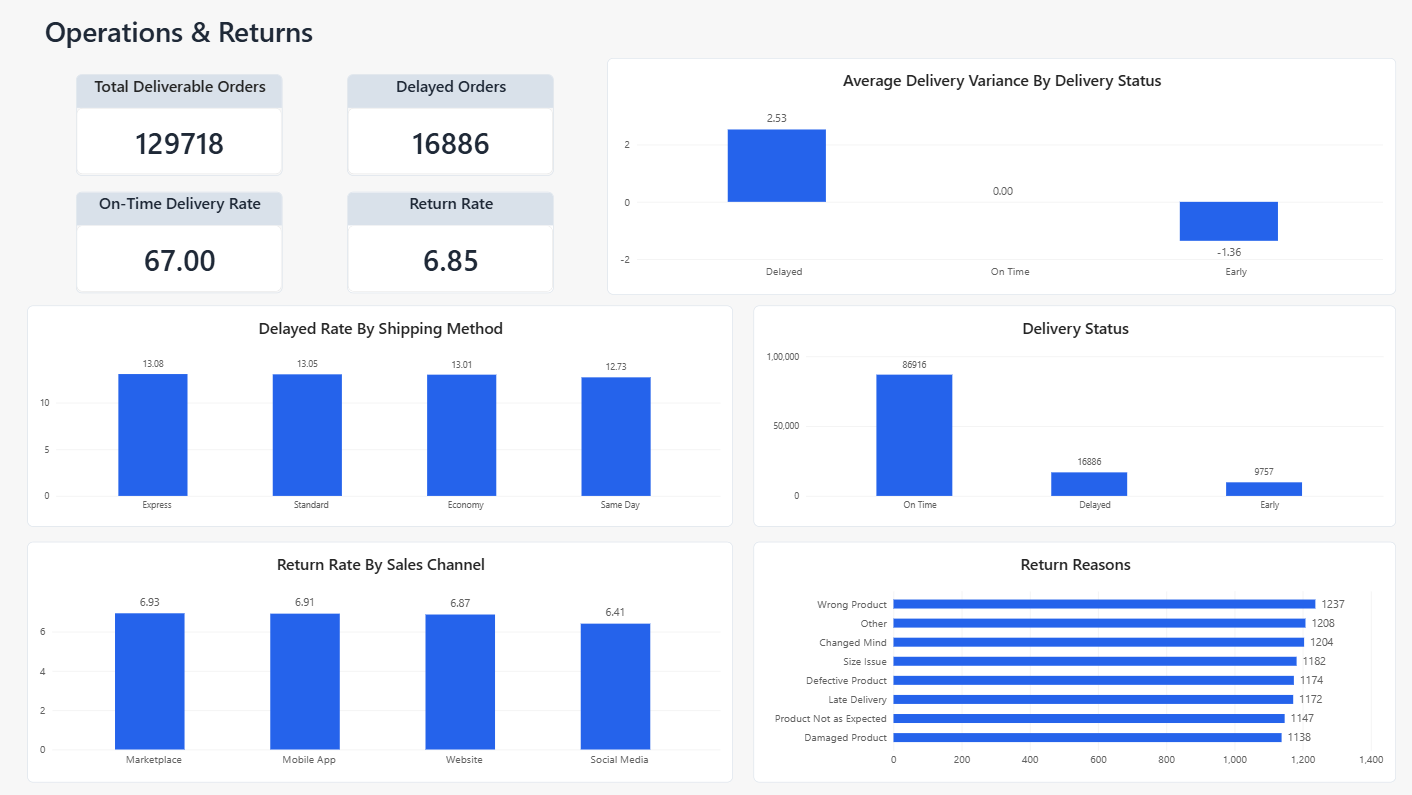

The page's visual inventory and layout, read from the dashboard file:
{"tool":"powerbi","page":{"name":"Operations_&_Returns","canvas":[1920,1080],"ordinal":3},"visuals":[{"type":"cardVisual","title":"Total Deliverable Orders","fields":{"Data":["Count(ecommerce_customer_value_intelligence sales.order_id)"]},"box":[108.2,104.1,280,137.8],"z":0},{"type":"textbox","box":[65.3,20.4,504.9,60.5],"z":1000},{"type":"cardVisual","title":"On-Time Delivery Rate","fields":{"Data":["ecommerce_customer_value_intelligence sales.On-Time Delivery Rate"]},"box":[108.2,263.3,280,137.8],"z":2000},{"type":"cardVisual","title":"Delayed Orders","fields":{"Data":["Count(ecommerce_customer_value_intelligence sales.order_id)"]},"box":[475.5,104.1,280,137.8],"z":3000},{"type":"cardVisual","title":"Return Rate","fields":{"Data":["ecommerce_customer_value_intelligence sales.Return Rate"]},"box":[475.5,263.3,280,137.8],"z":4000},{"type":"clusteredColumnChart","title":"Delivery Status","fields":{"Category":["ecommerce_customer_value_intelligence sales.delivery_status"],"Y":["Count(ecommerce_customer_value_intelligence sales.order_id)"]},"box":[1026.5,416.3,871.4,300],"z":5000},{"type":"clusteredColumnChart","title":"Average Delivery Variance By Delivery Status","fields":{"Category":["ecommerce_customer_value_intelligence sales.delivery_status"],"Y":["Avg(ecommerce_customer_value_intelligence sales.Delivery Variance)"]},"box":[828.6,81.6,1069.4,320.4],"z":6000},{"type":"clusteredColumnChart","title":"Delayed Rate By Shipping Method","fields":{"Category":["ecommerce_customer_value_intelligence sales.shipping_method"],"Y":["ecommerce_customer_value_intelligence sales.Delayed Rate"]},"box":[43.6,416.9,955.8,300],"z":7000},{"type":"clusteredColumnChart","title":"Return Rate By Sales Channel","fields":{"Category":["ecommerce_customer_value_intelligence sales.sales_channel"],"Y":["ecommerce_customer_value_intelligence sales.Channel Return Rate"]},"box":[42.9,736.7,957.1,326.5],"z":8000},{"type":"clusteredBarChart","title":"Return Reasons","fields":{"Category":["ecommerce_customer_value_intelligence sales.return_reason"],"Y":["Count(ecommerce_customer_value_intelligence sales.order_id)"]},"box":[1026.5,736.7,871.4,326.5],"z":9000}]}

Visuals, with their boxes in screenshot pixels (x1, y1, x2, y2), scaled from the page's 1920x1080 canvas onto the 1412x795 screenshot:
"Total Deliverable Orders" cardVisual: pyautogui.locateOnScreen(80, 77, 285, 178)
textbox: pyautogui.locateOnScreen(48, 15, 419, 60)
"On-Time Delivery Rate" cardVisual: pyautogui.locateOnScreen(80, 194, 285, 295)
"Delayed Orders" cardVisual: pyautogui.locateOnScreen(350, 77, 556, 178)
"Return Rate" cardVisual: pyautogui.locateOnScreen(350, 194, 556, 295)
"Delivery Status" clusteredColumnChart: pyautogui.locateOnScreen(755, 306, 1396, 527)
"Average Delivery Variance By Delivery Status" clusteredColumnChart: pyautogui.locateOnScreen(609, 60, 1396, 296)
"Delayed Rate By Shipping Method" clusteredColumnChart: pyautogui.locateOnScreen(32, 307, 735, 528)
"Return Rate By Sales Channel" clusteredColumnChart: pyautogui.locateOnScreen(32, 542, 735, 783)
"Return Reasons" clusteredBarChart: pyautogui.locateOnScreen(755, 542, 1396, 783)
